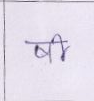i_matra: (54, 34, 68, 61)
